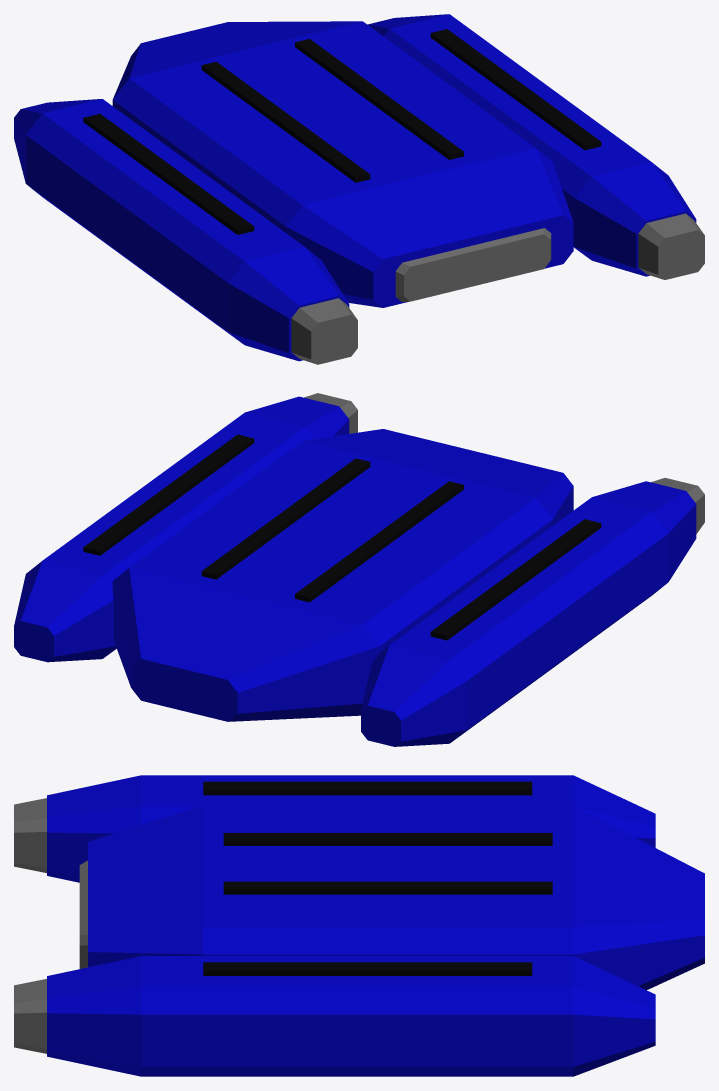
File: Legs_Sprint.obj
3 views of the same model, one above another, from view 1: azimuth 30°, elevation 25°; view 2: azimuth 150°, elevation 25°; view 3: azimuth 270°, elevation 25° (orthographic). The views are drawn at different scales.
Parts seen in each view (by area): view 1: hblue, tgray, black; view 2: hblue, black, tgray; view 3: hblue, black, tgray.
Part boxes in pixels (x1,y1,x2,y2): hblue: (14, 14, 696, 361); tgray: (291, 213, 704, 364); black: (83, 29, 601, 234); hblue: (14, 396, 696, 746); black: (83, 434, 601, 640); tgray: (304, 393, 704, 533); hblue: (47, 775, 704, 1076); black: (203, 781, 552, 975); tgray: (14, 798, 87, 1053).
Bounding box in the file's own units: 1.32 × 0.294 × 1.68.
